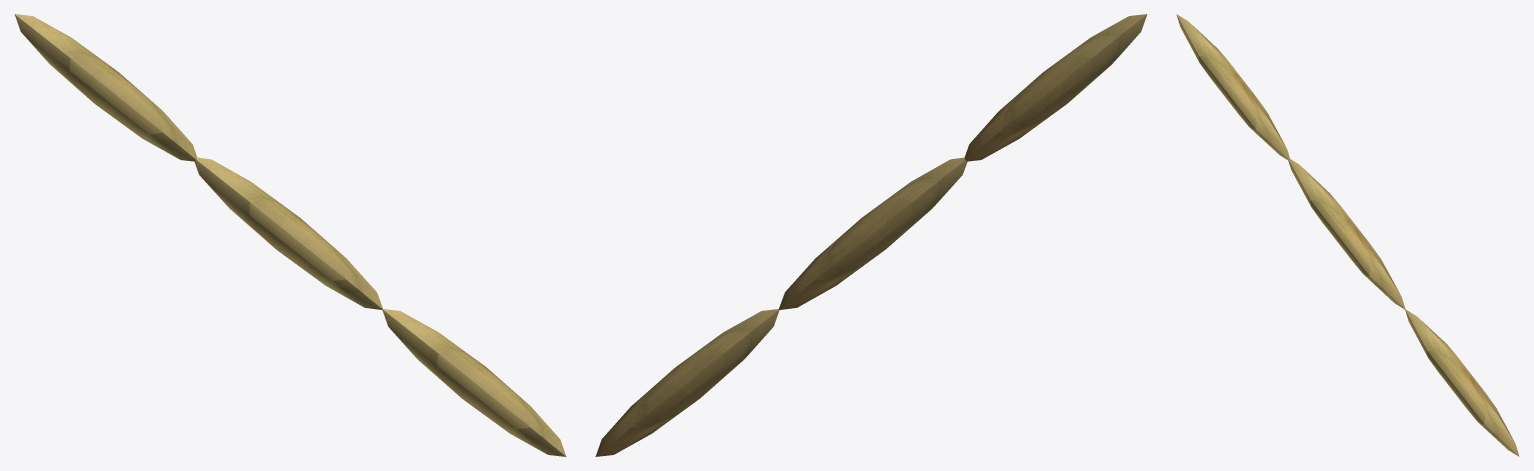
File: sails_triangle_collapsed.obj
3 views of the same model, side by side, from view 1: azimuth 30°, elevation 25°; view 2: azimuth 150°, elevation 25°; view 3: azimuth 330°, elevation 25° (orthographic). The views are drawn at different scales.
Parts seen in each view (by area): view 1: g0; view 2: g0; view 3: g0.
Boxes of the visible parts, x1,y1,x2,y2 form: g0: (14, 14, 566, 456); g0: (595, 14, 1147, 456); g0: (1176, 14, 1519, 456).
Bounding box in the file's own units: 0.9963 × 0.9963 × 0.0639.
